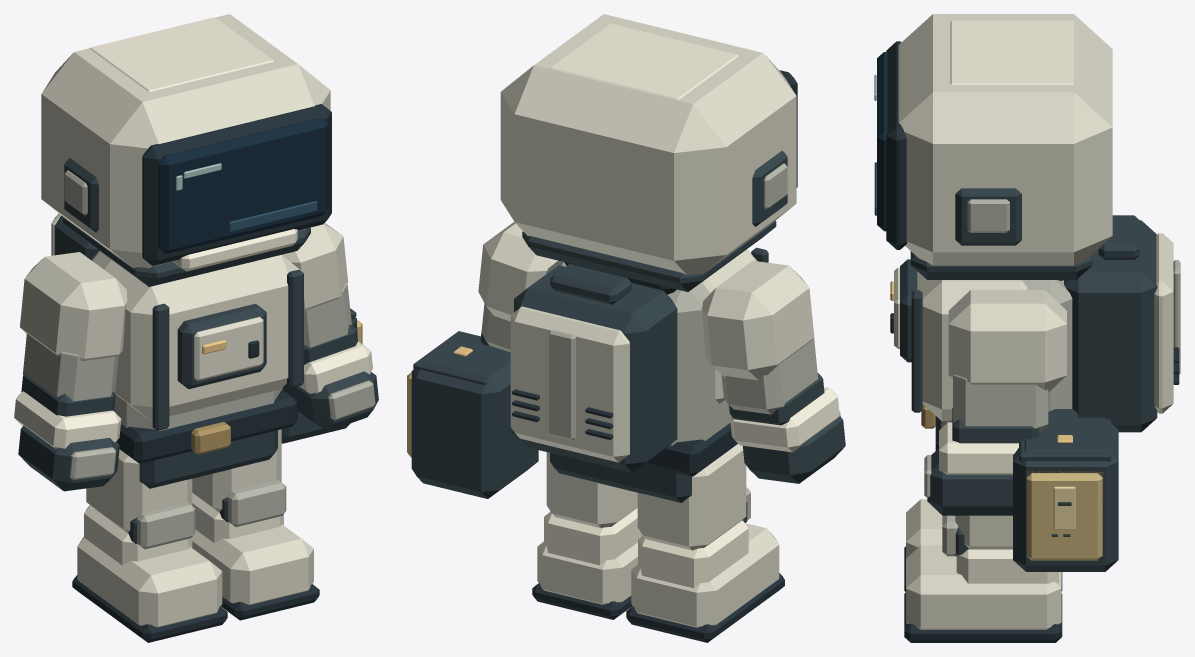
The model's file is astronaut-v1.obj.
3 renders of one model, left to right at view 1: azimuth 30°, elevation 25°; view 2: azimuth 150°, elevation 25°; view 3: azimuth 270°, elevation 25°, orthographic. The views are drawn at different scales.
Parts seen in each view (by area): view 1: Helmet_shell, Visor, Chest_shell, Left_shoulder, Left_boot, Helmet_crown, Right_boot, Visor_gasket, Belt, Left_upperarm, Left_thigh, Pelvis (+30 smaller); view 2: Helmet_shell, Sealed_case_frame, Life_support_cover, Life_support_pack, Left_shoulder, Helmet_crown, Left_boot, Left_thigh, Torso_fabric, Right_shoulder, Left_shin, Right_boot (+18 smaller); view 3: Helmet_shell, Life_support_pack, Right_shoulder, Right_boot, Helmet_crown, Sealed_case_frame, Case_outer_lid, Chest_shell, Right_upperarm, Right_glove, Visor_gasket, Life_support_cover (+19 smaller).
Part boxes in pixels (x1,y1,x2,y2): Helmet_shell: (41, 14, 330, 268); Visor: (158, 117, 328, 253); Chest_shell: (103, 255, 300, 421); Left_shoulder: (20, 252, 127, 361); Left_boot: (77, 537, 222, 627); Helmet_crown: (89, 17, 273, 91); Right_boot: (192, 524, 313, 605); Visor_gasket: (142, 104, 331, 265); Belt: (116, 390, 297, 463); Left_upperarm: (23, 333, 118, 401); Left_thigh: (86, 449, 192, 532); Pelvis: (139, 430, 277, 488); Helmet_shell: (500, 14, 796, 274); Sealed_case_frame: (411, 333, 538, 498); Life_support_cover: (510, 306, 629, 462); Life_support_pack: (514, 265, 677, 472); Left_shoulder: (701, 260, 814, 380); Helmet_crown: (550, 23, 738, 99); Left_boot: (631, 523, 779, 627); Left_thigh: (637, 443, 746, 550); Torso_fabric: (546, 260, 730, 445); Right_shoulder: (478, 222, 557, 321); Left_shin: (638, 520, 748, 588); Right_boot: (537, 541, 637, 604); Helmet_shell: (898, 14, 1112, 265); Life_support_pack: (1064, 220, 1157, 432); Right_shoulder: (948, 290, 1066, 392); Right_boot: (906, 545, 1061, 629); Helmet_crown: (950, 20, 1073, 84); Sealed_case_frame: (1013, 417, 1118, 571); Case_outer_lid: (1026, 473, 1102, 560); Chest_shell: (917, 271, 1027, 421); Right_upperarm: (953, 374, 1048, 432); Right_glove: (927, 448, 1012, 515); Visor_gasket: (886, 41, 907, 249); Life_support_cover: (1154, 233, 1173, 413).
Size of the model in its own units: 0.7793 by 1.11 by 0.561.
